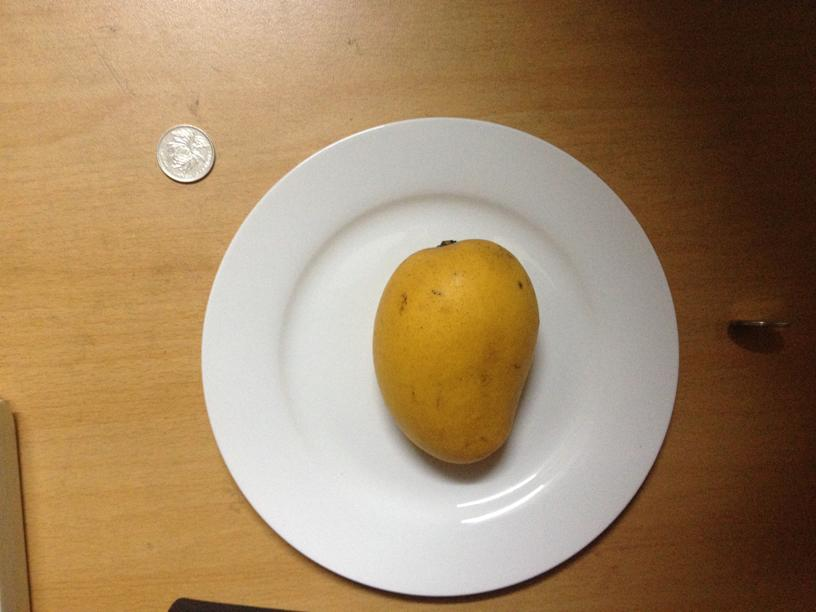coin: (157, 125, 214, 182)
mango: (374, 238, 540, 465)
